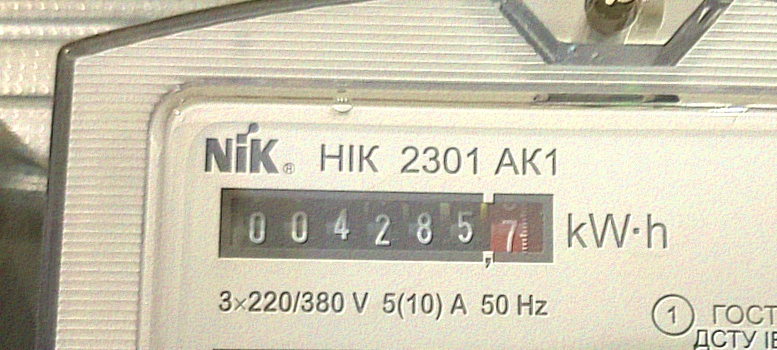0: (288, 207, 311, 245), (246, 208, 268, 244)
2: (372, 211, 392, 247)
4: (332, 205, 351, 241)
5: (453, 207, 476, 244)
7: (498, 216, 519, 253)
8: (412, 209, 435, 246)
screen: (202, 170, 571, 283)
